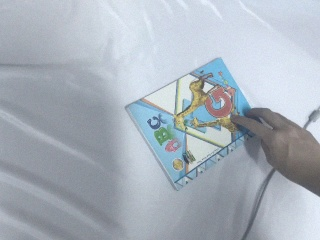book: (122, 50, 272, 196)
